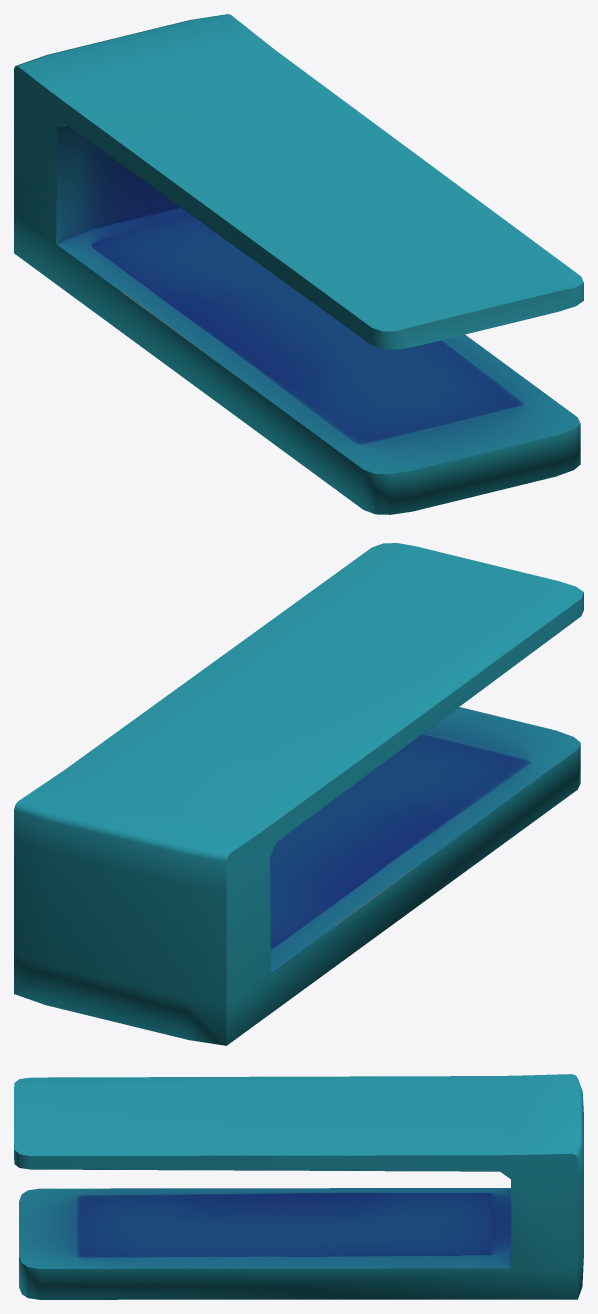
Rendered from SmallShelf.fbx.
The picture shows the model from 3 angles, top to bottom: view 1: azimuth 30°, elevation 25°; view 2: azimuth 150°, elevation 25°; view 3: azimuth 270°, elevation 25°; orthographic projection. The views are drawn at different scales.
Parts seen in each view (by area): view 1: Cube.027; view 2: Cube.027; view 3: Cube.027.
Boxes of the visible parts, x1,y1,x2,y2 form: Cube.027: (14, 14, 583, 514); Cube.027: (14, 543, 583, 1045); Cube.027: (14, 1074, 583, 1299).
Bounding box in the file's own units: 37.05 × 31.55 × 111.
Materials: 1 (1 with a texture image).
